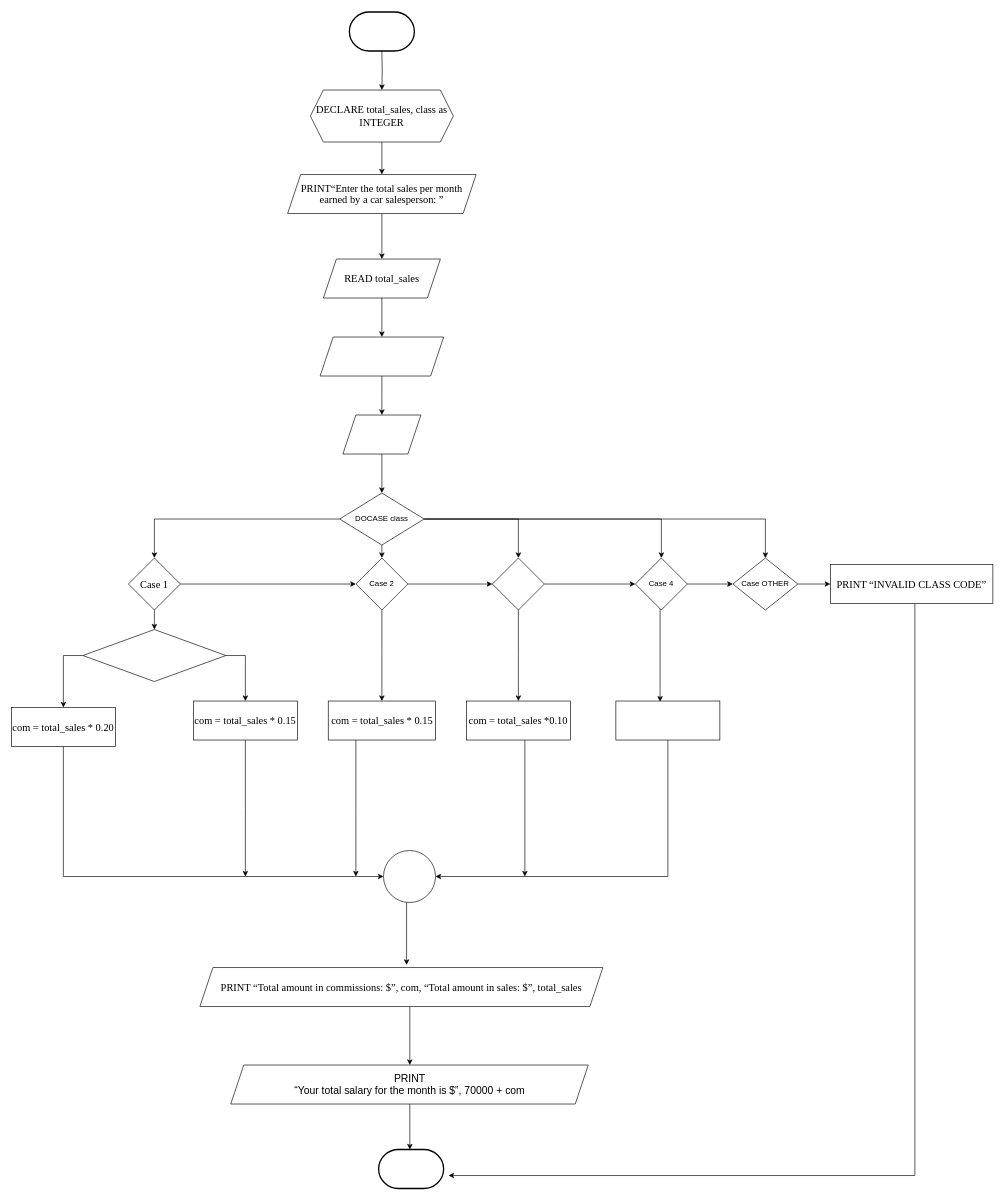
Some shapes in this 1004 by 1200 pixel diagram are drawn without their labels. Each missing label, with the box of its shape:
Case 3: (492, 557, 544, 610)
com = total_sales * 0.05: (615, 700, 720, 740)
IF total_sales > 400000: (82, 629, 226, 682)
PRINT“Enter your class code: ”: (319, 336, 444, 376)
READ class: (342, 414, 421, 454)
START: (348, 11, 415, 51)
STOP: (378, 1149, 444, 1189)
